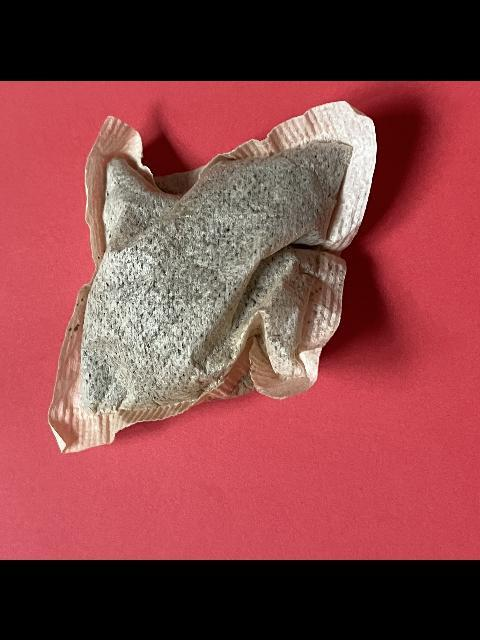teabag: (47, 100, 381, 454)
